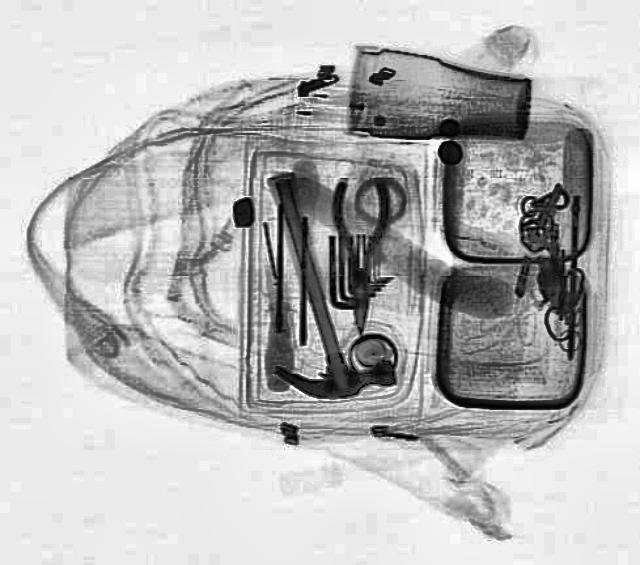Pliers: (330, 180, 388, 332)
